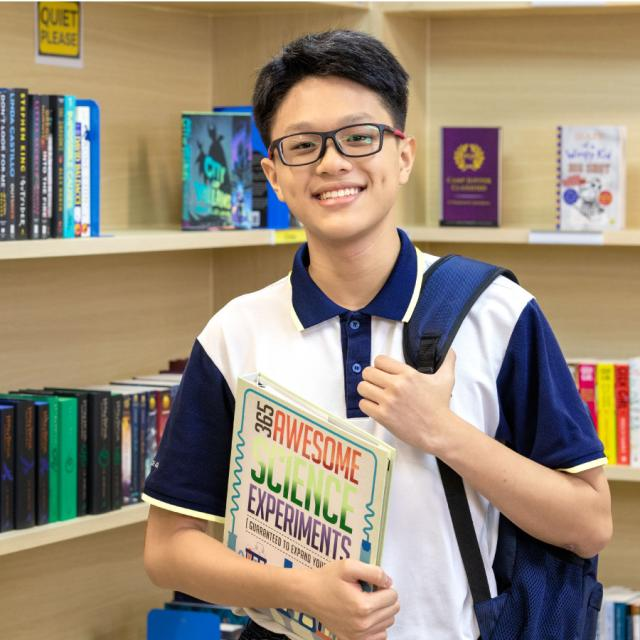Nonhelmet: (248, 26, 420, 241)
